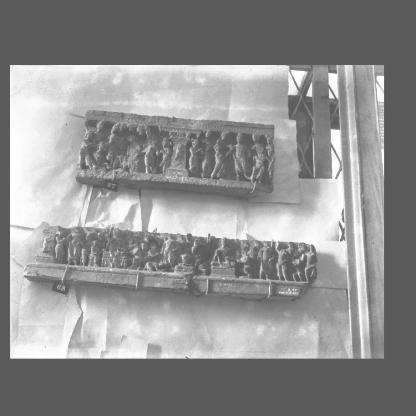buddha-sitting: (101, 228, 128, 268), (210, 237, 235, 277)
buddha-standing: (232, 132, 250, 180)
